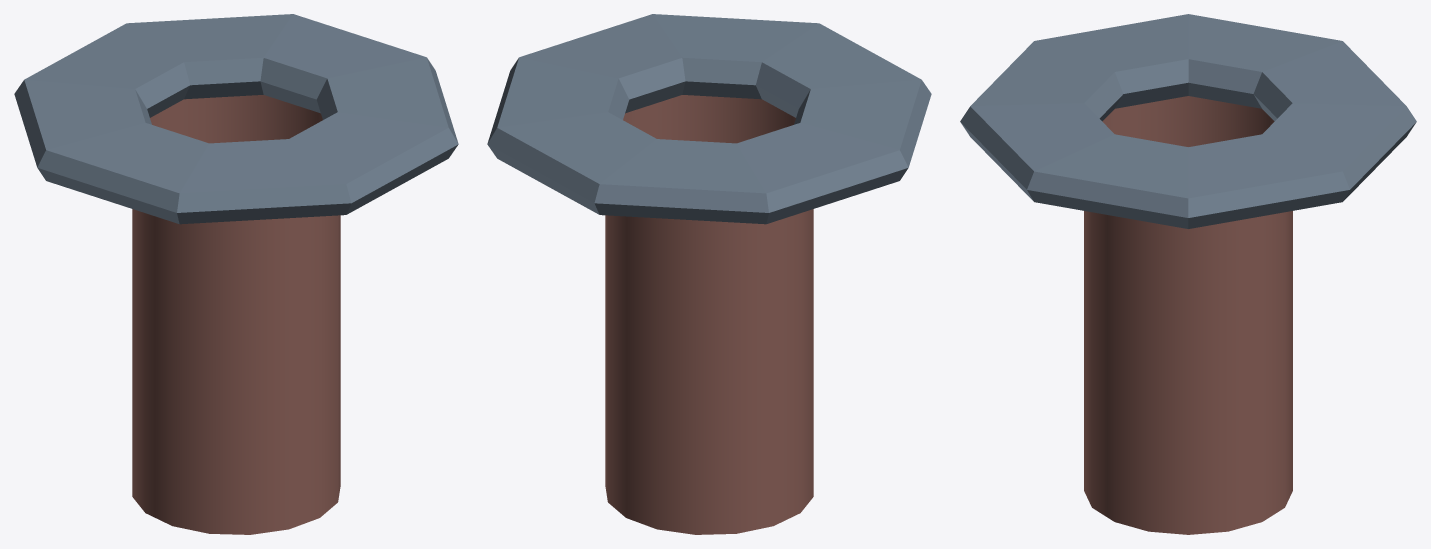
File: RingModel 1.fbx
The picture shows the model from 3 angles, left to right: view 1: azimuth 30°, elevation 25°; view 2: azimuth 150°, elevation 25°; view 3: azimuth 270°, elevation 25°; orthographic projection.
Parts seen in each view (by area): view 1: Rod, Segment 3, Segment 2, Segment 4, Segment 6, Segment 5, Segment 7, Segment 1, Segment 8; view 2: Rod, Segment 7, Segment 1, Segment 6, Segment 4, Segment 8, Segment 3, Segment 2, Segment 5; view 3: Rod, Segment 5, Segment 8, Segment 1, Segment 2, Segment 4, Segment 6, Segment 3, Segment 7.
Part boxes in pixels (x1,y1,x2,y2): Rod: (132,95,340,534); Segment 3: (177,139,351,224); Segment 2: (37,123,208,223); Segment 4: (289,112,458,214); Segment 6: (127,14,292,99); Segment 5: (260,14,425,113); Segment 7: (25,23,189,117); Segment 1: (14,79,151,167); Segment 8: (316,57,458,143); Rod: (605,95,813,534); Segment 7: (594,139,768,224); Segment 1: (737,123,908,223); Segment 6: (487,112,656,214); Segment 4: (653,14,818,99); Segment 8: (520,14,685,113); Segment 3: (756,23,920,117); Segment 2: (794,79,931,167); Segment 5: (487,57,629,143); Rod: (1084,96,1292,534); Segment 5: (1188,134,1349,228); Segment 8: (1027,134,1188,228); Segment 1: (1188,14,1341,108); Segment 2: (1035,14,1188,108); Segment 4: (960,103,1114,200); Segment 6: (1262,103,1416,200); Segment 3: (970,41,1123,121); Segment 7: (1253,41,1406,121).
Size of the model in its own units: 4.37 by 4.09 by 4.37.
